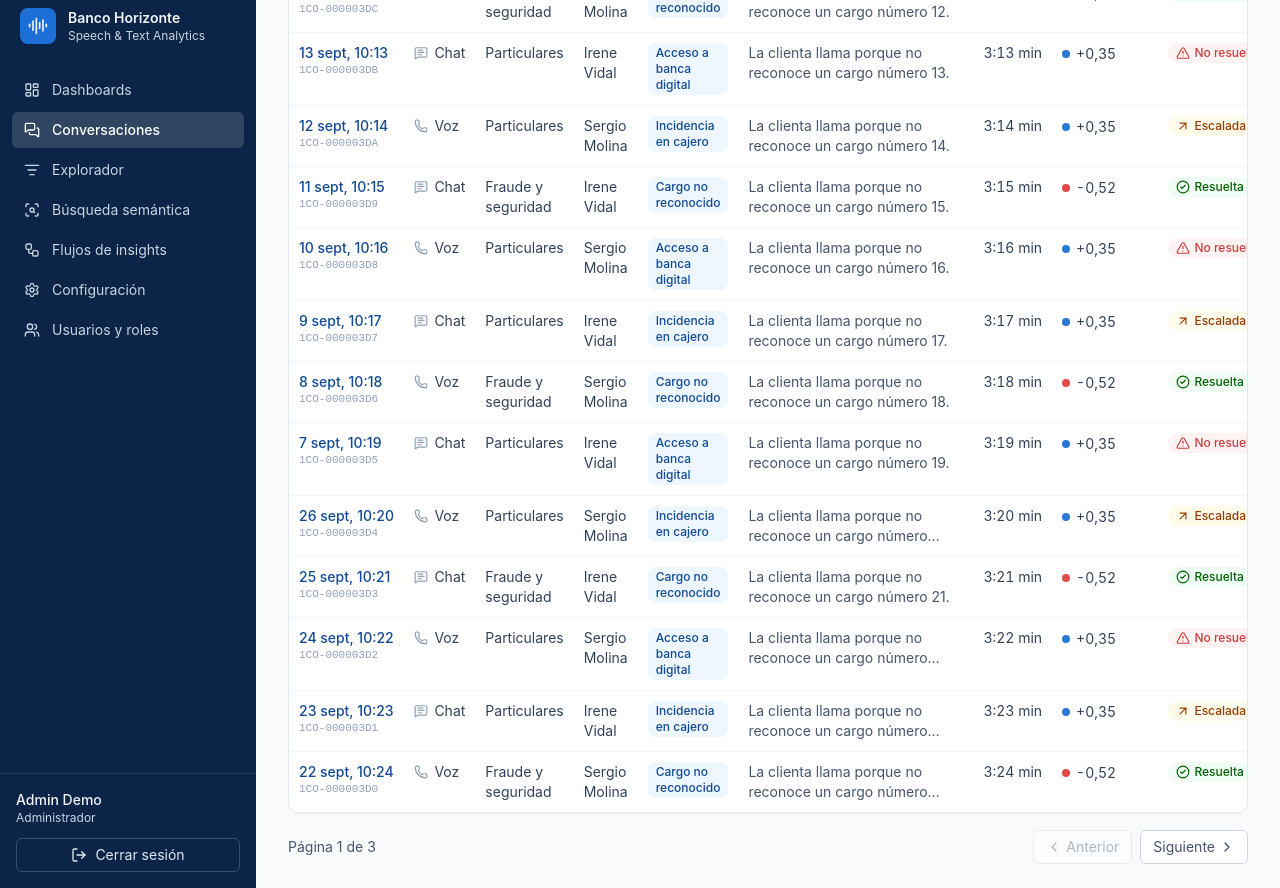
Test: listado de conversaciones › pagina de 25 en 25
(page scrolled)
Expected: the text "Página 1 de 3" is shown, [288,837,376,857]
Click the button "Siguiente". click: [1194, 847]
box: [1140,830,1248,864]
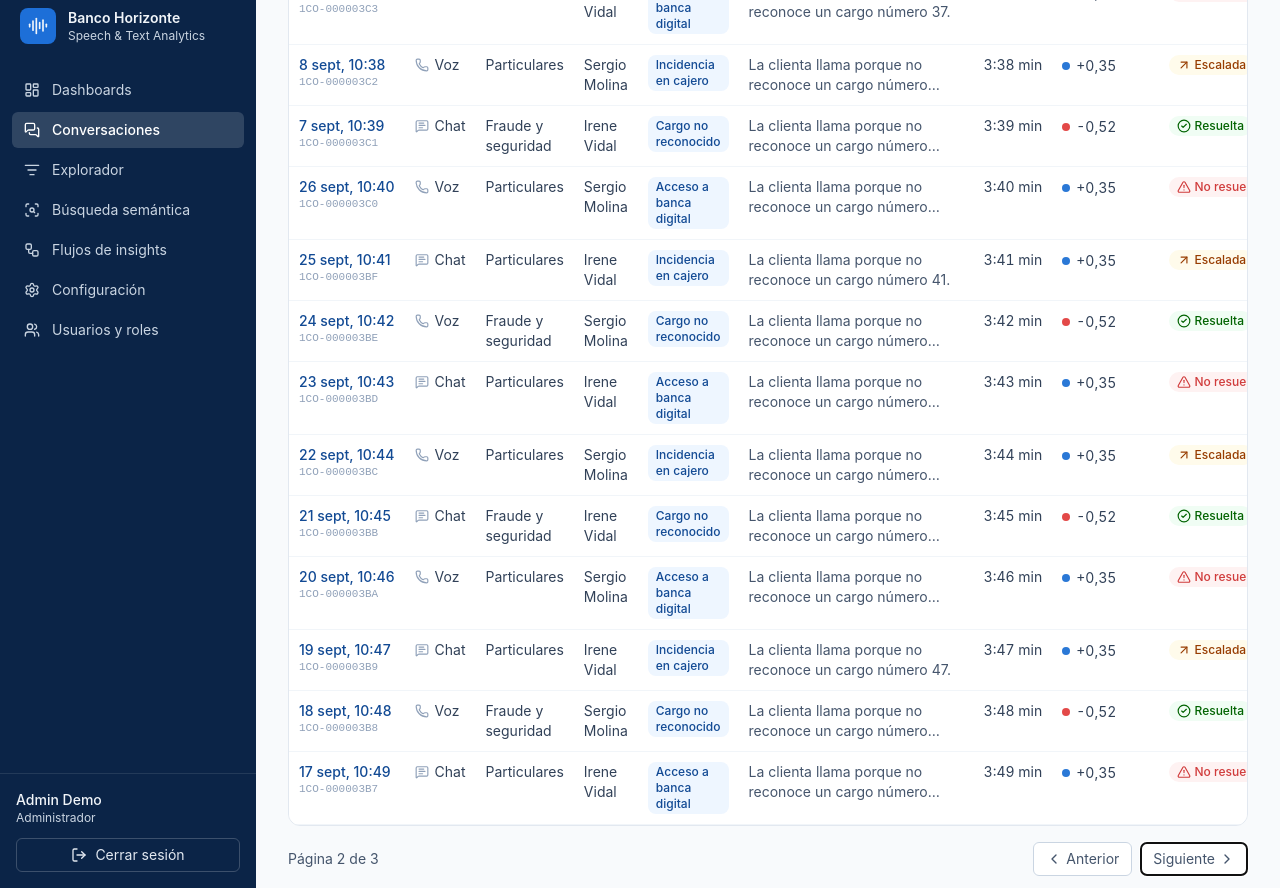
Expected: the text "Página 2 de 3" is shown, [288,849,379,869]
Expected: the button "Anterior" is enabled, [1033,842,1132,876]
